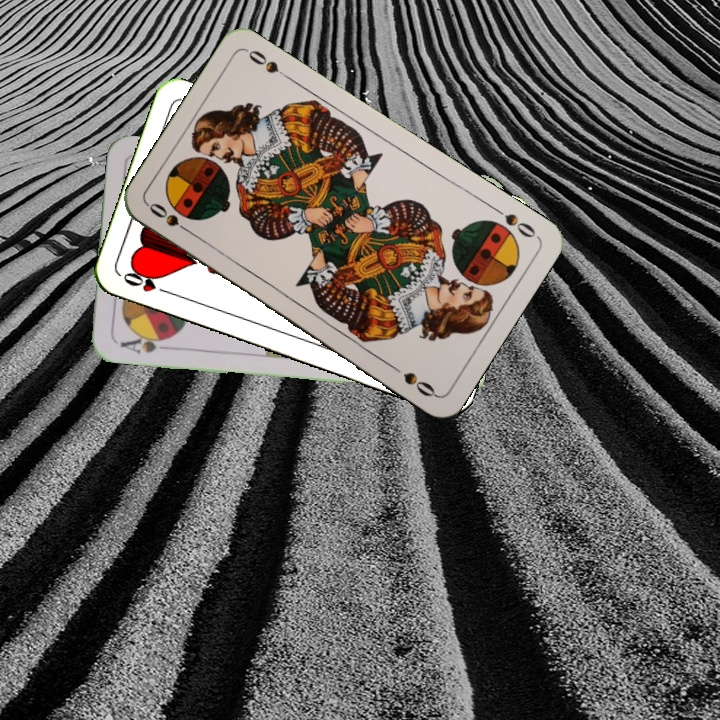HO: (119, 266, 175, 298)
SA: (116, 329, 171, 356)
SO: (144, 198, 197, 239), (488, 202, 540, 241)
